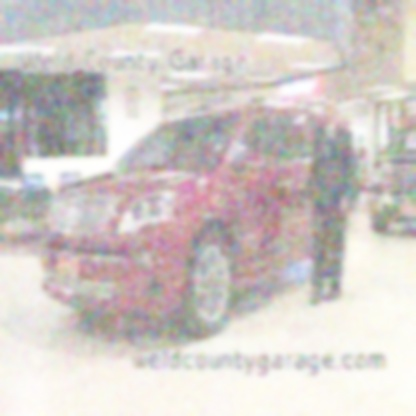Vehicle: (37, 98, 328, 336)
